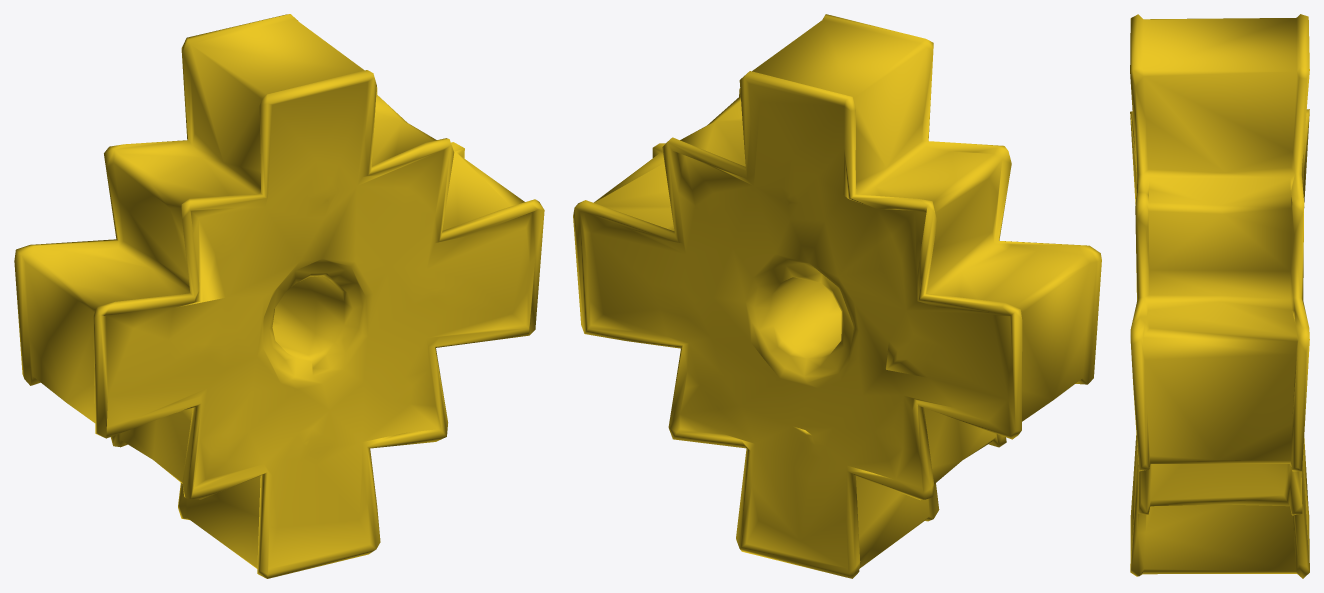
File: coin.glb
The picture shows the model from 3 angles, left to right: view 1: azimuth 30°, elevation 25°; view 2: azimuth 150°, elevation 25°; view 3: azimuth 270°, elevation 25°; orthographic projection. The views are drawn at different scales.
Parts seen in each view (by area): view 1: CHAKANA.007; view 2: CHAKANA.007; view 3: CHAKANA.007.
Boxes of the visible parts, <box> form: CHAKANA.007: <box>14,14,544,578</box>; CHAKANA.007: <box>573,14,1101,578</box>; CHAKANA.007: <box>1130,14,1309,578</box>.
Size of the model in its own units: 2.11 by 2.17 by 0.6918.
